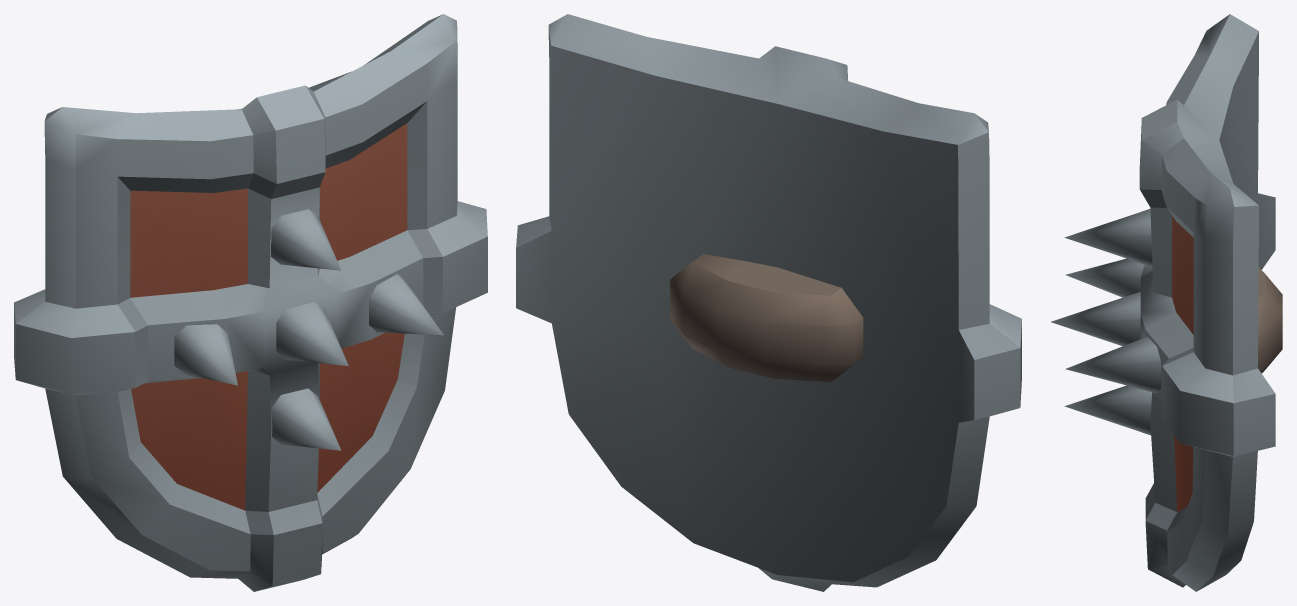
Rendered from shield_spikes.glb.
The picture shows the model from 3 angles, left to right: view 1: azimuth 30°, elevation 25°; view 2: azimuth 150°, elevation 25°; view 3: azimuth 270°, elevation 25°; orthographic projection. The views are drawn at different scales.
Bounding box in the file's own units: 1.01 × 1.04 × 0.4598.
1 material, 1 textured.
